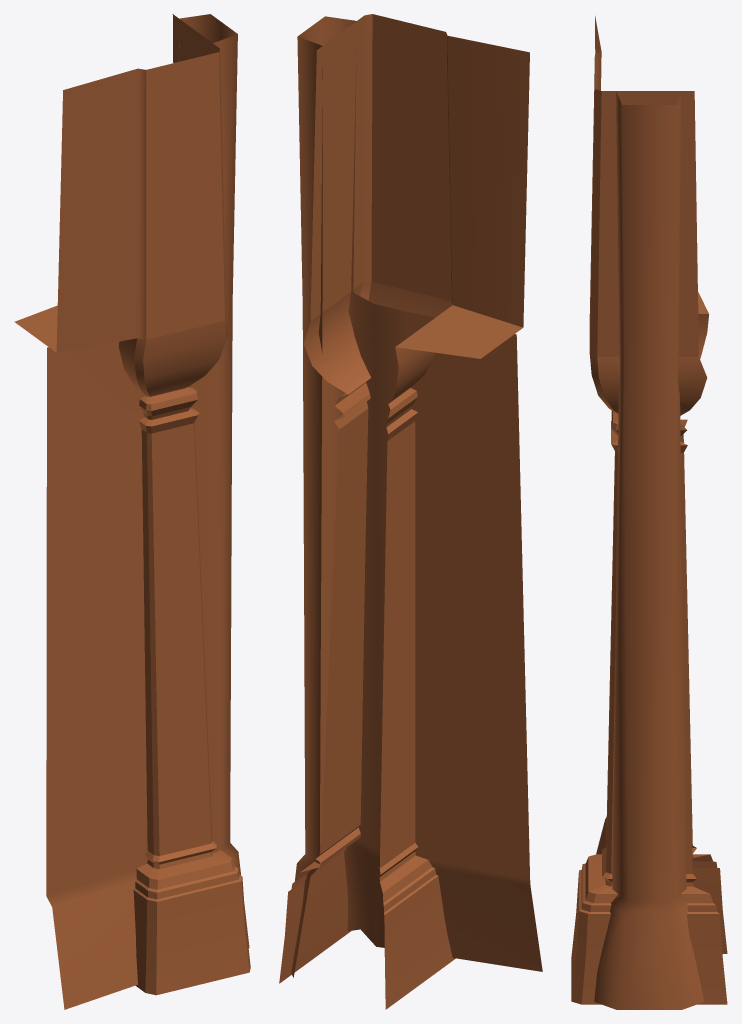
File: Column 3.fbx
3 views of the same model, side by side, from view 1: azimuth 30°, elevation 25°; view 2: azimuth 150°, elevation 25°; view 3: azimuth 270°, elevation 25° (orthographic). The views are drawn at different scales.
Visible parts, largest first — view 1: Column_03; view 2: Column_03; view 3: Column_03.
Part boxes in pixels (box(x1,y1,x2,y2)): Column_03: box(14, 14, 250, 1009); Column_03: box(279, 14, 542, 1009); Column_03: box(571, 16, 727, 1009).
Bounding box in the file's own units: 128 × 544 × 85.2.
